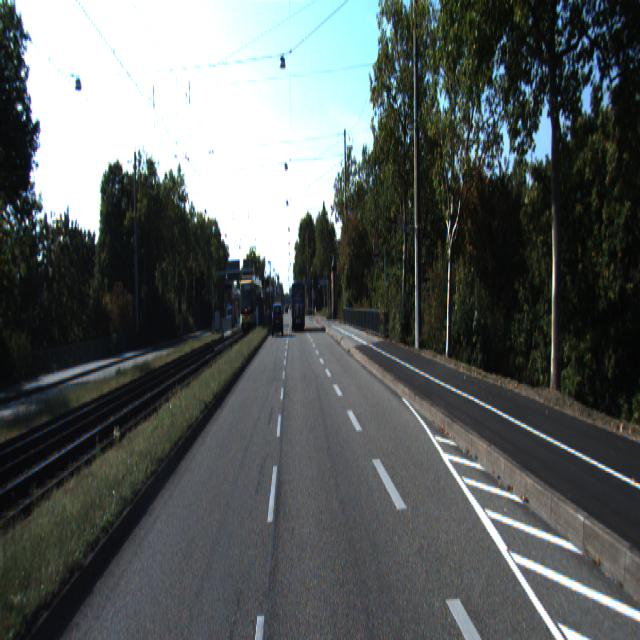Car: (240, 278, 263, 336), (291, 282, 305, 332), (272, 302, 283, 336)
